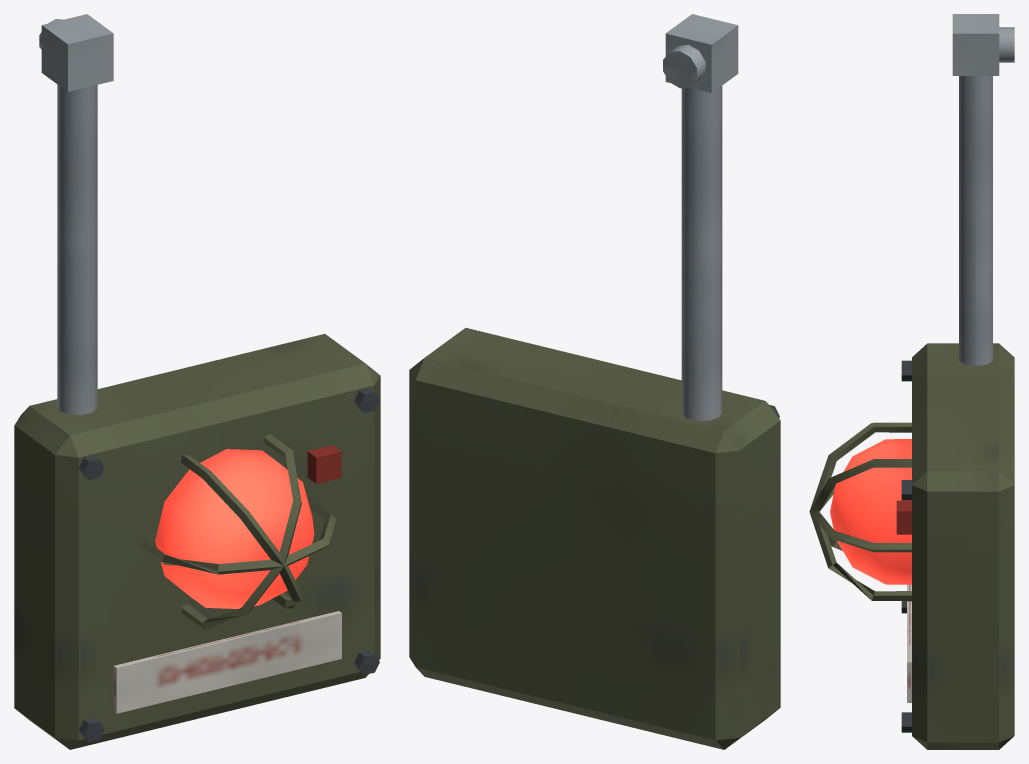
The model's file is lamp_emergency.fbx.
3 views of the same model, side by side, from view 1: azimuth 30°, elevation 25°; view 2: azimuth 150°, elevation 25°; view 3: azimuth 270°, elevation 25° (orthographic). The views are drawn at different scales.
Visible parts, largest first — view 1: lamp_emergency, lamp_emergency_lens; view 2: lamp_emergency; view 3: lamp_emergency, lamp_emergency_lens.
Boxes of the visible parts, bbox=[...] form: lamp_emergency: bbox=[14, 14, 380, 749]; lamp_emergency_lens: bbox=[155, 449, 314, 608]; lamp_emergency: bbox=[409, 14, 780, 749]; lamp_emergency: bbox=[809, 14, 1014, 749]; lamp_emergency_lens: bbox=[830, 439, 911, 584].
Size of the model in its own units: 0.26 by 0.5282 by 0.16.
1 material, 1 textured.
